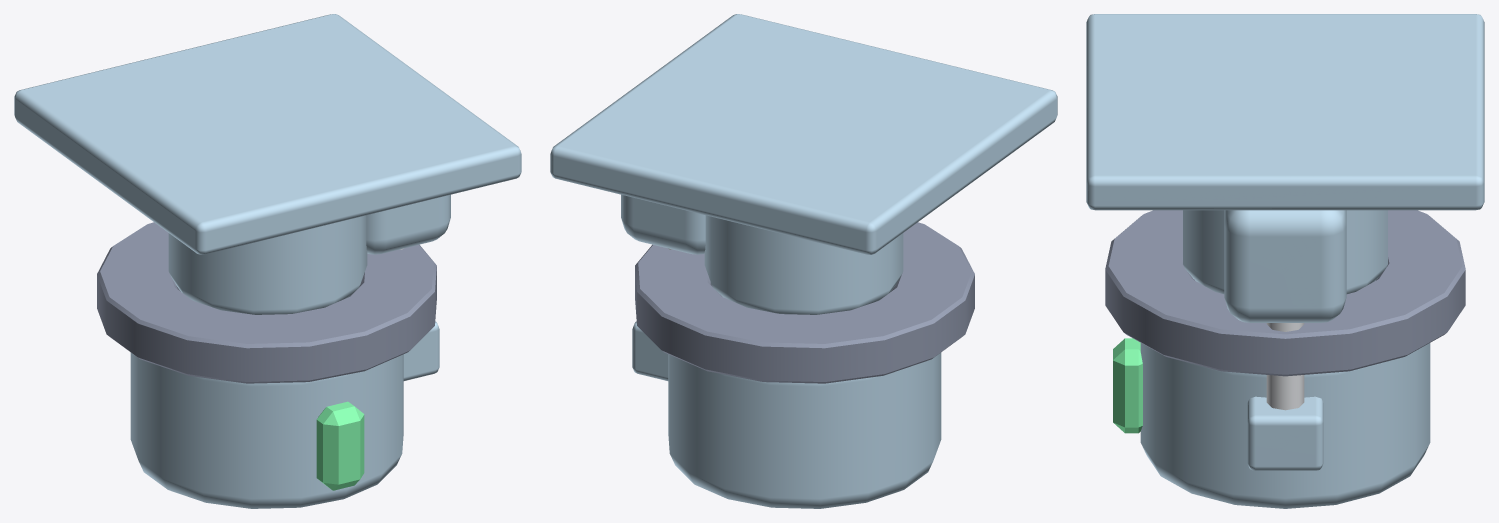
File: R4X_IndependentSteering.fbx
The picture shows the model from 3 angles, left to right: view 1: azimuth 30°, elevation 25°; view 2: azimuth 150°, elevation 25°; view 3: azimuth 270°, elevation 25°; orthographic projection. The views are drawn at different scales.
Parts seen in each view (by area): view 1: R4X_IndependentSteering_Body, R4X_IndependentSteering_Turntable; view 2: R4X_IndependentSteering_Body, R4X_IndependentSteering_Turntable; view 3: R4X_IndependentSteering_Body, R4X_IndependentSteering_Turntable.
Boxes of the visible parts, x1,y1,x2,y2 form: R4X_IndependentSteering_Body: [14, 14, 521, 383]; R4X_IndependentSteering_Turntable: [130, 321, 439, 508]; R4X_IndependentSteering_Body: [550, 14, 1057, 383]; R4X_IndependentSteering_Turntable: [632, 321, 941, 508]; R4X_IndependentSteering_Body: [1086, 14, 1484, 410]; R4X_IndependentSteering_Turntable: [1113, 338, 1430, 508].
Bounding box in the file's own units: 0.52 × 0.52 × 0.52.
